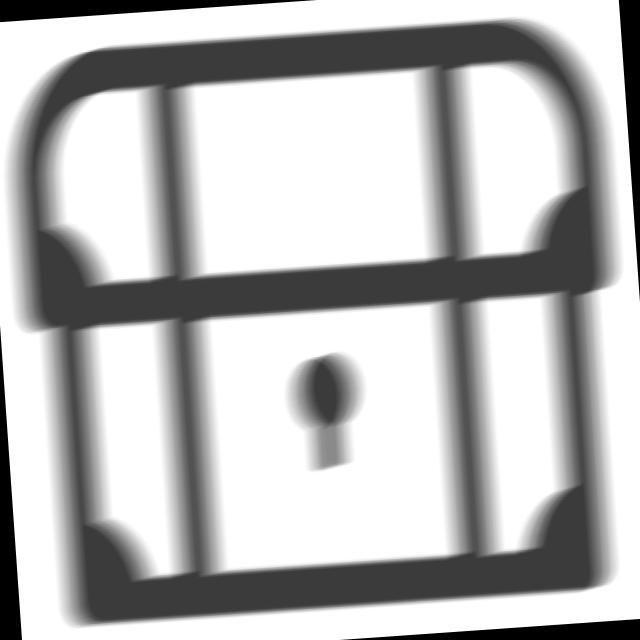treasure_box: (1, 7, 640, 640)
